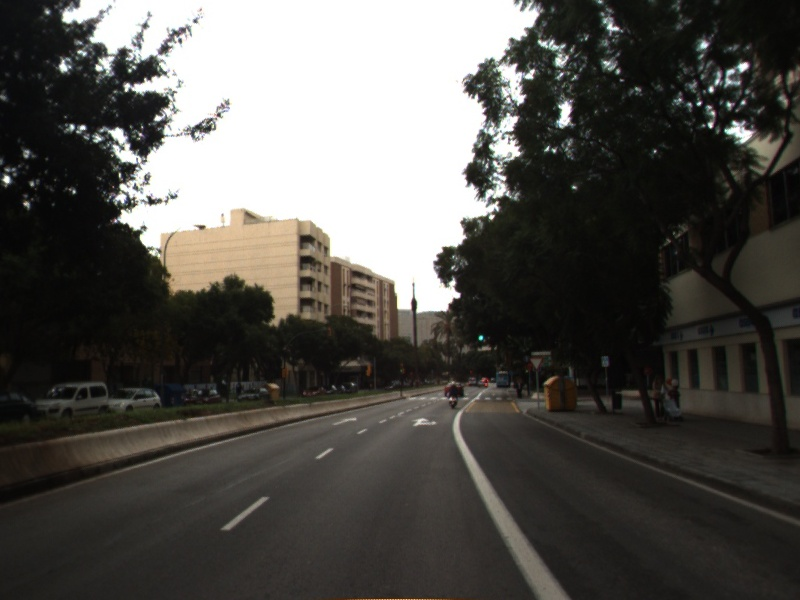STRAIGHT: (330, 414, 359, 427)
STRAIGHT_RIGHT: (409, 416, 440, 429)
